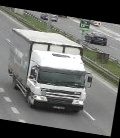truck: (3, 23, 99, 118)
